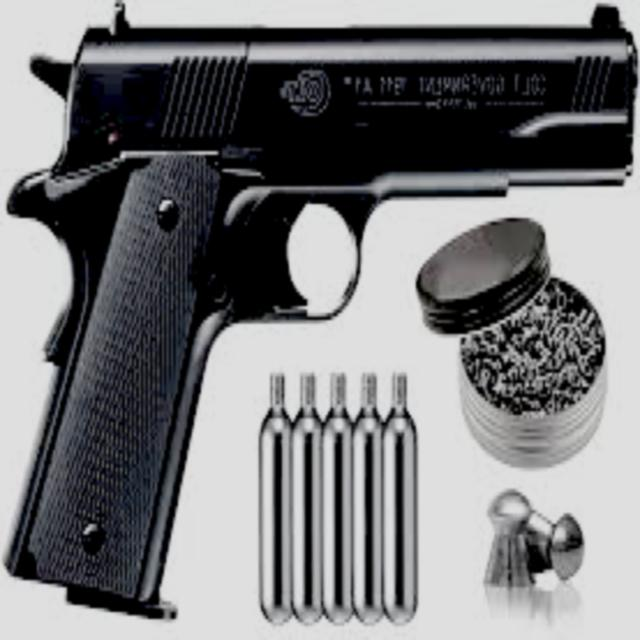semi automatic: (3, 4, 637, 634)
